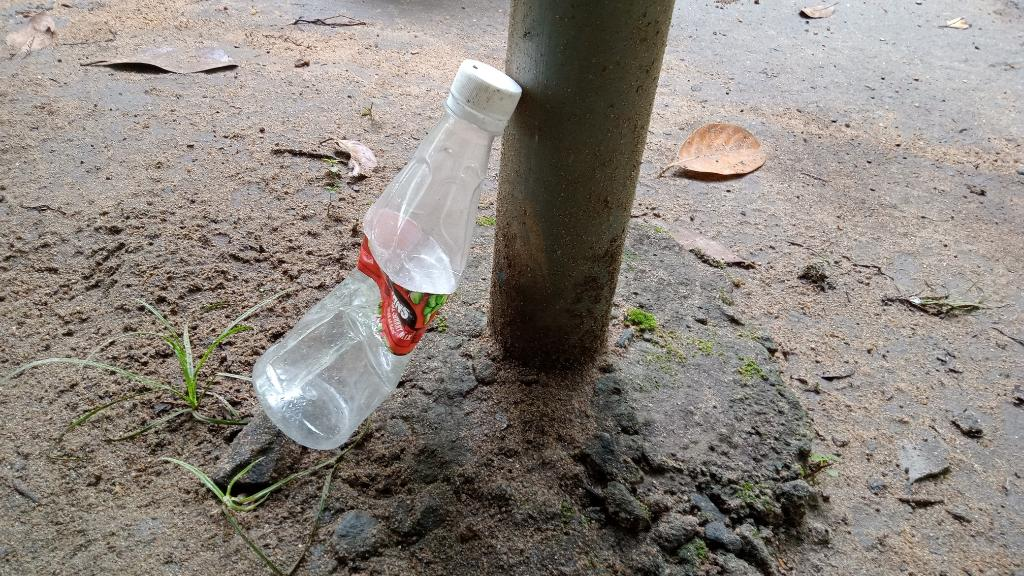garbage: (213, 43, 541, 453)
